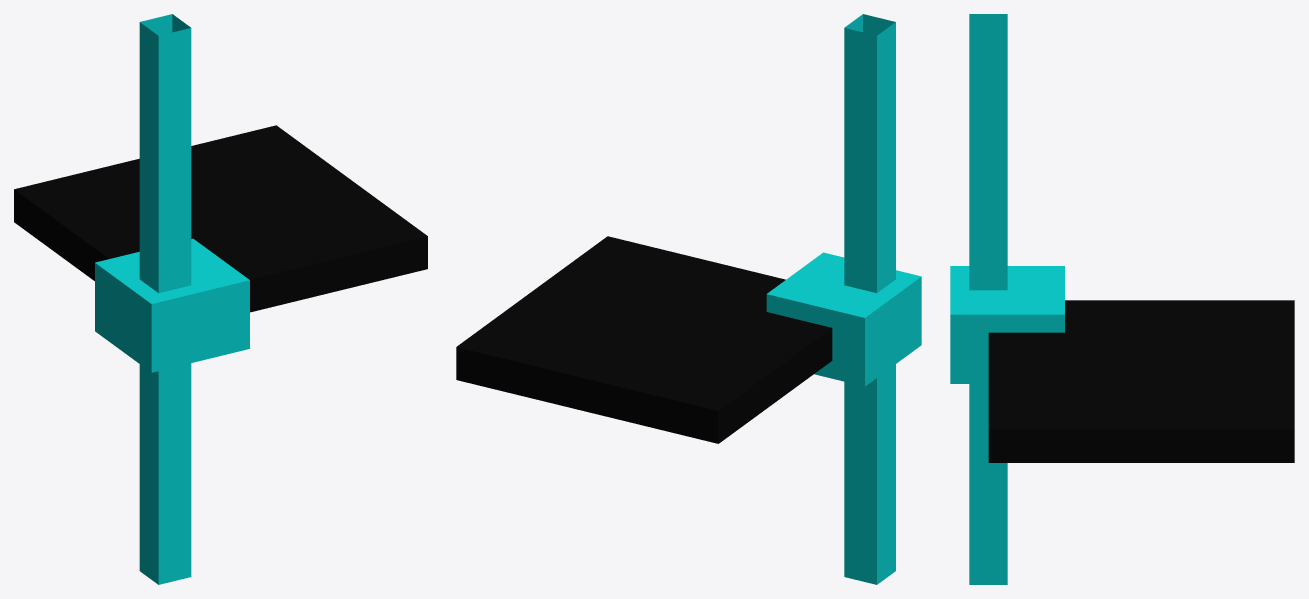
File: BigStrut_P_E_P_E_E_E_E_E_BigStrut.fbx
3 renders of one model, left to right at view 1: azimuth 30°, elevation 25°; view 2: azimuth 150°, elevation 25°; view 3: azimuth 270°, elevation 25°, orthographic.
Parts seen in each view (by area): view 1: BigStrut_P_E_P_E_E_E_E_E_BigStrut; view 2: BigStrut_P_E_P_E_E_E_E_E_BigStrut; view 3: BigStrut_P_E_P_E_E_E_E_E_BigStrut.
Part boxes in pixels (box(x1,y1,x2,y2)): BigStrut_P_E_P_E_E_E_E_E_BigStrut: box(14, 14, 427, 584); BigStrut_P_E_P_E_E_E_E_E_BigStrut: box(456, 14, 921, 584); BigStrut_P_E_P_E_E_E_E_E_BigStrut: box(950, 14, 1294, 584).
Bounding box in the file's own units: 56.25 × 100 × 56.25.
